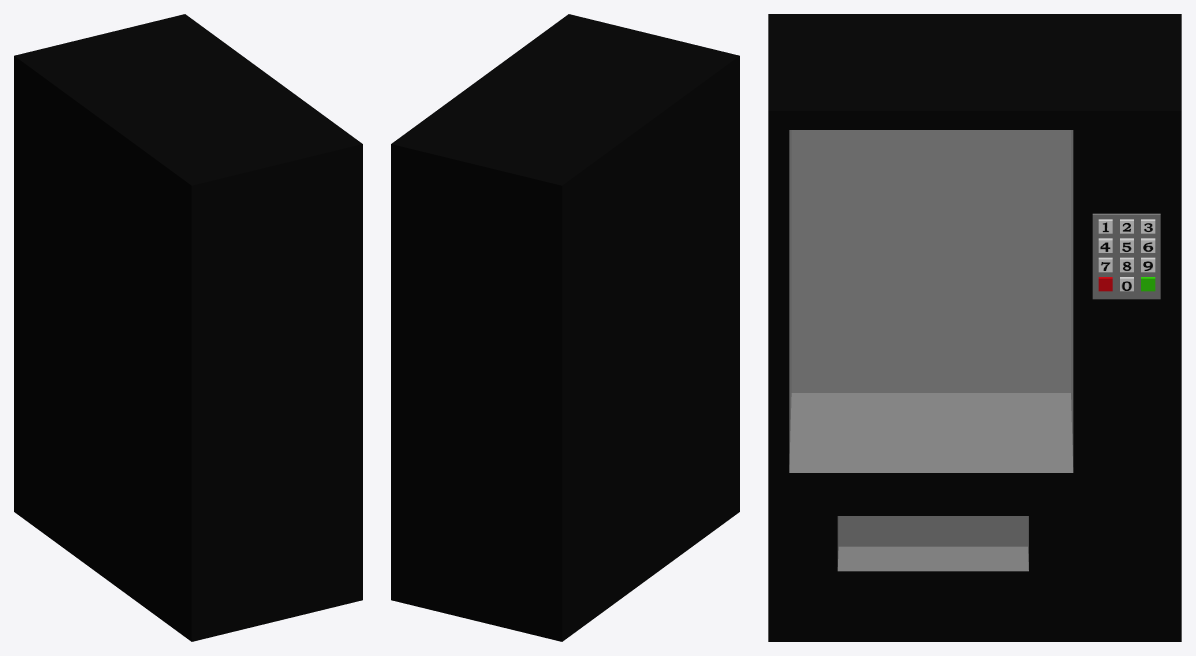
The model's file is vending_machine.glb.
3 views of the same model, side by side, from view 1: azimuth 30°, elevation 25°; view 2: azimuth 150°, elevation 25°; view 3: azimuth 270°, elevation 25° (orthographic). The views are drawn at different scales.
Parts seen in each view (by area): view 1: Cube; view 2: Cube; view 3: Cube, Plate.
Part boxes in pixels (x1,y1,x2,y2): Cube: [14, 14, 362, 641]; Cube: [391, 14, 739, 641]; Cube: [768, 14, 1181, 641]; Plate: [1092, 213, 1160, 299].
Size of the model in its own units: 2.68 by 6.63 by 4.68.
Materials: 8 (1 with a texture image).
